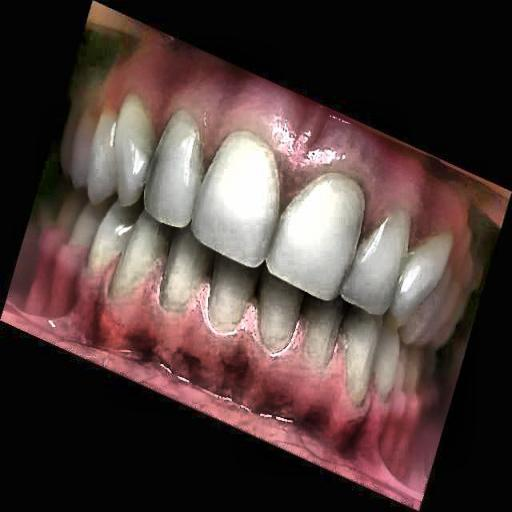Healthy: (70, 54, 421, 388)
